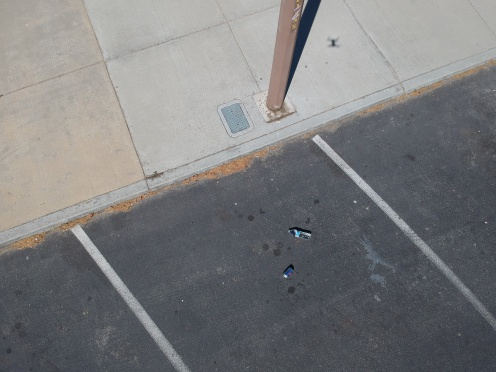bottle: (284, 224, 314, 244)
can: (279, 262, 297, 280)
